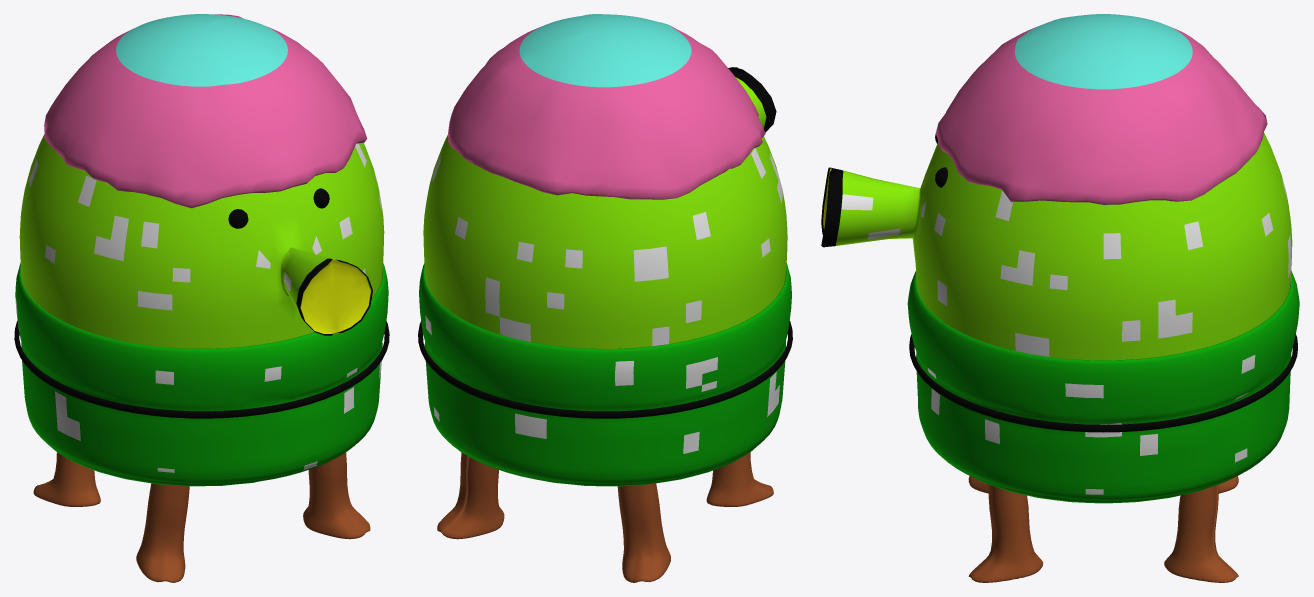
File: doodle.fbx
3 views of the same model, side by side, from view 1: azimuth 30°, elevation 25°; view 2: azimuth 150°, elevation 25°; view 3: azimuth 270°, elevation 25° (orthographic). The views are drawn at different scales.
Visible parts, largest first — view 1: Cylinder, Sphere.002; view 2: Cylinder, Sphere.002; view 3: Cylinder, Sphere.002.
Part boxes in pixels (x1=…): Cylinder: x1=15, y1=14, x2=388, y2=582; Sphere.002: x1=14, y1=320, x2=389, y2=418; Cylinder: x1=419, y1=14, x2=791, y2=582; Sphere.002: x1=418, y1=320, x2=792, y2=418; Cylinder: x1=821, y1=14, x2=1299, y2=582; Sphere.002: x1=909, y1=334, x2=1297, y2=432.
Bounding box in the file's own units: 212 × 302 × 261.
